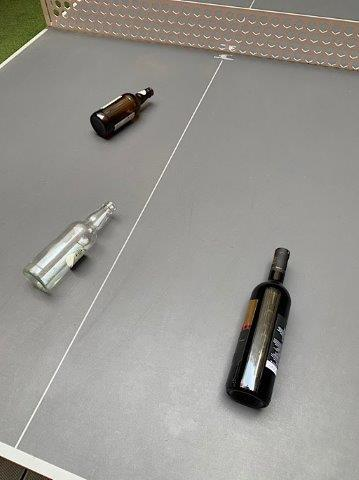botolkaca: (226, 248, 290, 406), (26, 203, 114, 290), (90, 88, 154, 138)
